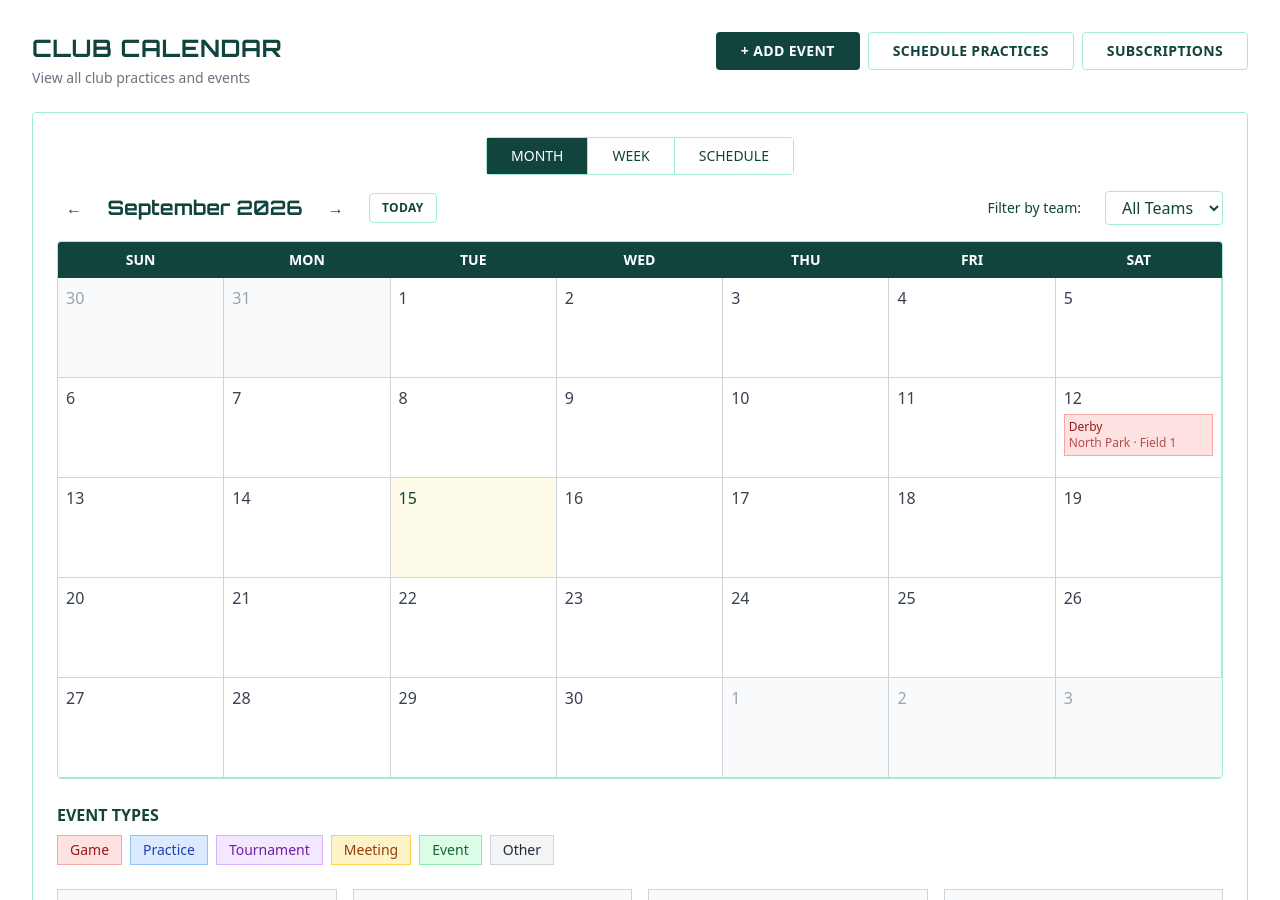
Test: A game on a field (migration 100) › changing the facility clears the field
Click the text "Derby".
click(1086, 426)  # box [1069,418,1102,435]
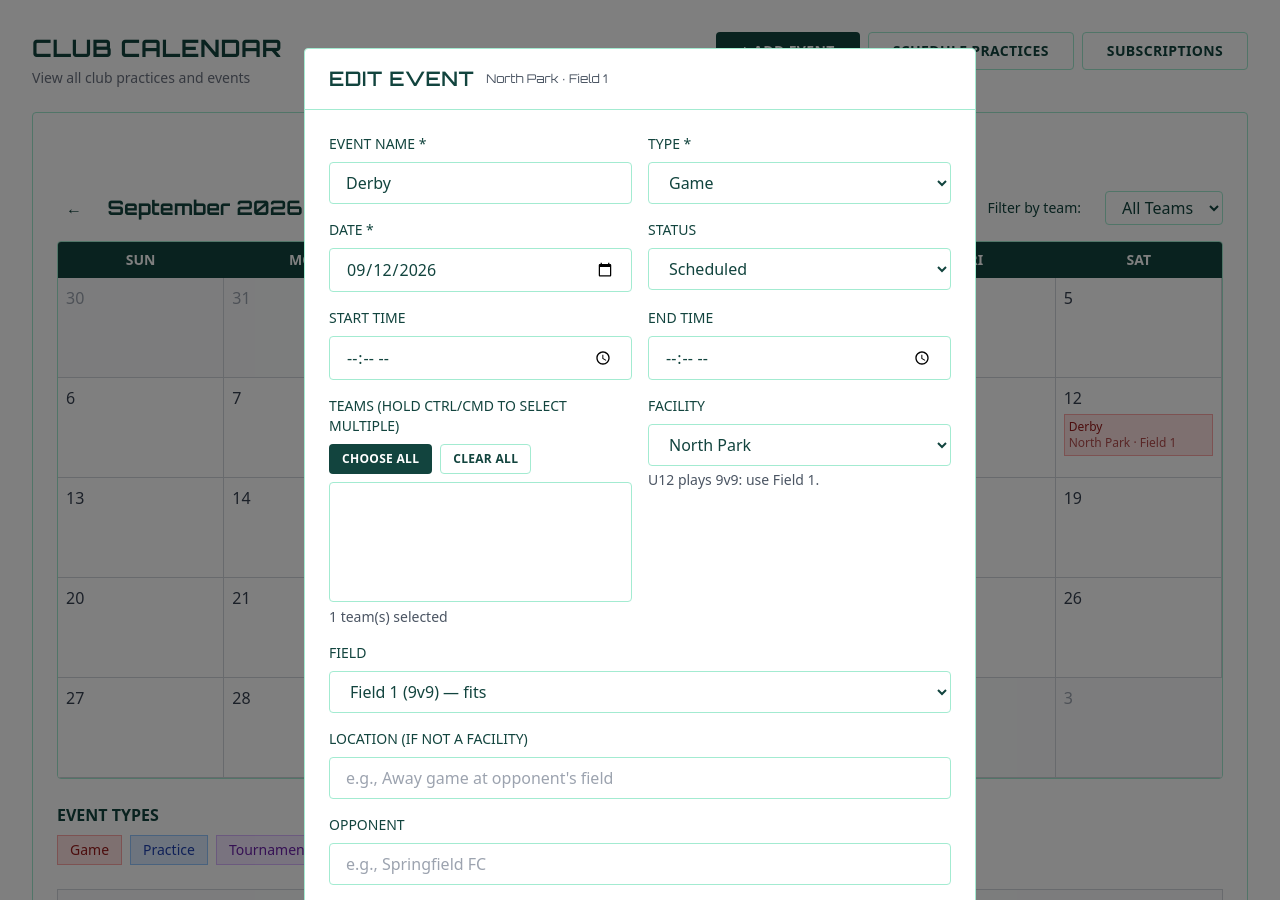
Result: the heading "Edit Event North Park · Field 1" is shown at [329,66,608,91]
Select "South Park" in the dropdown labelled "Facility" at (800, 445), box [648,424,951,466]
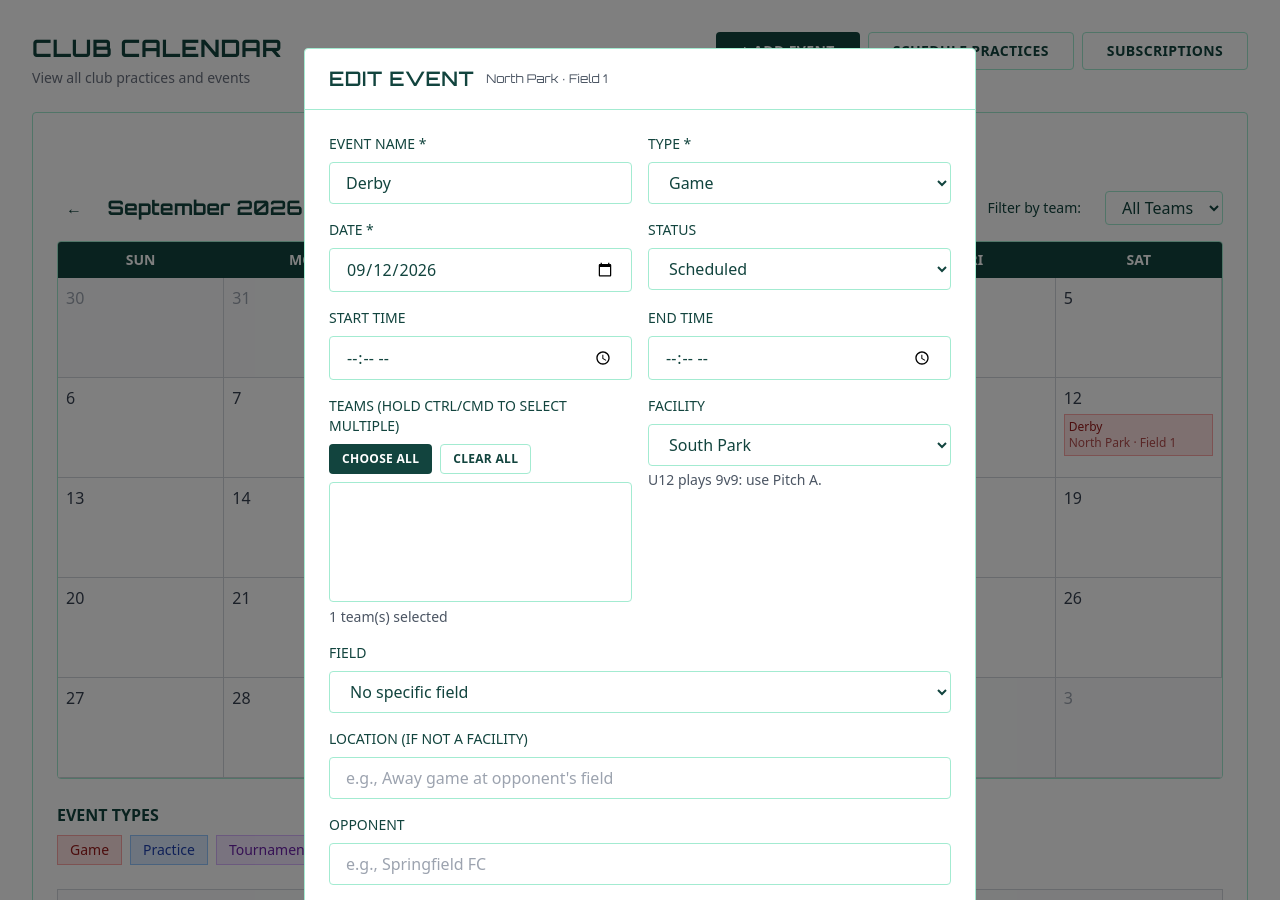
Result: the dropdown labelled "Field" shows "No specific field" at [329,671,951,713]
